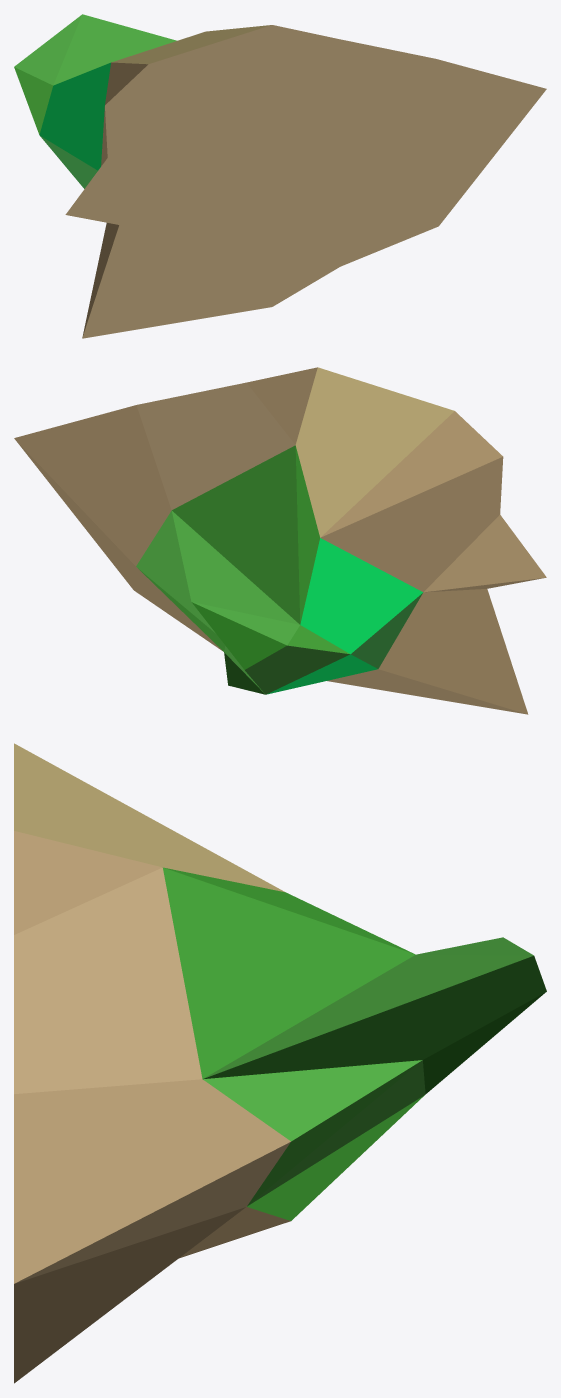
File: desert_middle_rock_1.fbx
The picture shows the model from 3 angles, top to bottom: view 1: azimuth 30°, elevation 25°; view 2: azimuth 150°, elevation 25°; view 3: azimuth 270°, elevation 25°; orthographic projection. The views are drawn at different scales.
Visible parts, largest first — view 1: desert_rock_2; view 2: desert_rock_2; view 3: desert_rock_2.
Part boxes in pixels (left/top/right/bottom): desert_rock_2: left=14, top=14, right=546, bottom=338; desert_rock_2: left=14, top=367, right=546, bottom=714; desert_rock_2: left=14, top=743, right=546, bottom=1383.
Size of the model in its own units: 357 by 200 by 200.
